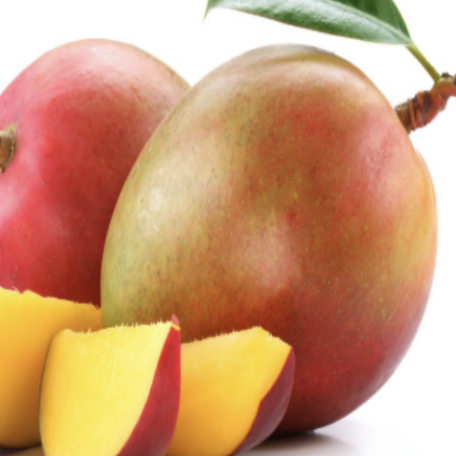mango: (81, 41, 455, 440)
